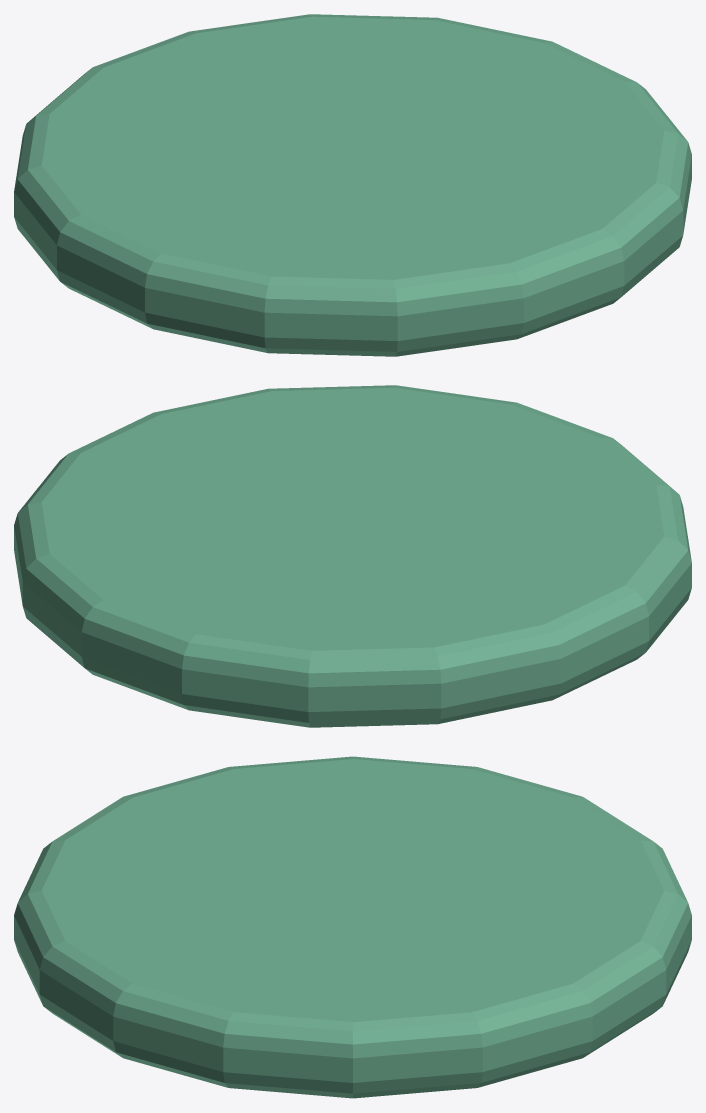
3 views of the same model, one above another, from view 1: azimuth 30°, elevation 25°; view 2: azimuth 150°, elevation 25°; view 3: azimuth 270°, elevation 25° (orthographic).
Visible parts, largest first — view 1: ai_export.003; view 2: ai_export.003; view 3: ai_export.003.
Part boxes in pixels (left/top/right/bottom): ai_export.003: left=14, top=14, right=691, bottom=356; ai_export.003: left=14, top=385, right=691, bottom=727; ai_export.003: left=14, top=756, right=691, bottom=1098.
Size of the model in its own units: 2.5 by 0.3 by 2.5.
